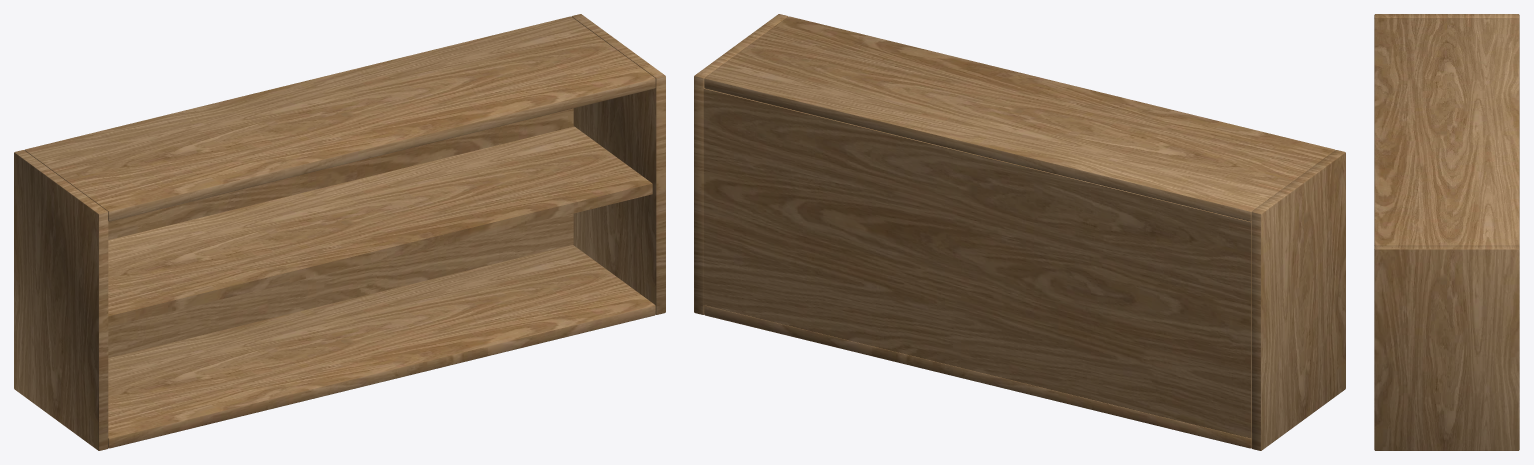
Rendered from estante_cocina_pared_base.glb.
3 views of the same model, side by side, from view 1: azimuth 30°, elevation 25°; view 2: azimuth 150°, elevation 25°; view 3: azimuth 270°, elevation 25° (orthographic). The views are drawn at different scales.
Parts seen in each view (by area): view 1: estante_cocina_pared_base; view 2: estante_cocina_pared_base; view 3: estante_cocina_pared_base.
Part boxes in pixels (x1,y1,x2,y2): estante_cocina_pared_base: (14, 14, 665, 450); estante_cocina_pared_base: (694, 14, 1345, 450); estante_cocina_pared_base: (1374, 14, 1519, 450).
Bounding box in the file's own units: 1 × 0.3999 × 0.26.
1 material, 1 textured.
